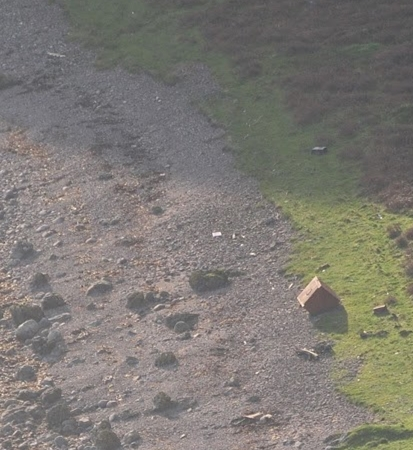cuboid: (289, 273, 347, 319)
white_in_green: (297, 126, 346, 172)
